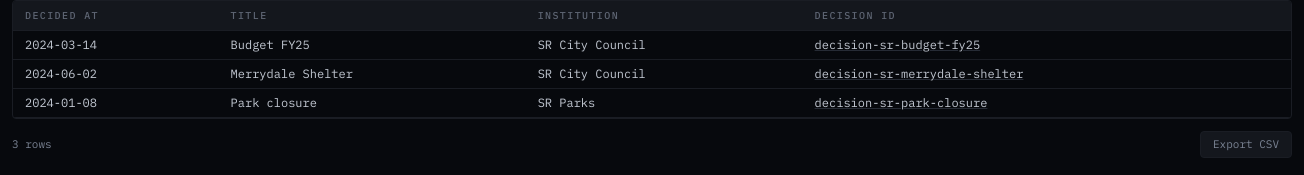
Scenario: DataTable › sorts DESC on first click of a sortable header, toggles ASC on second
Expected: the row that starts with "Budget FY25" is shown, [231,37,310,52]
Click the column heading "Decided at". click: coordinates (116, 16)
box: [13,1,219,31]
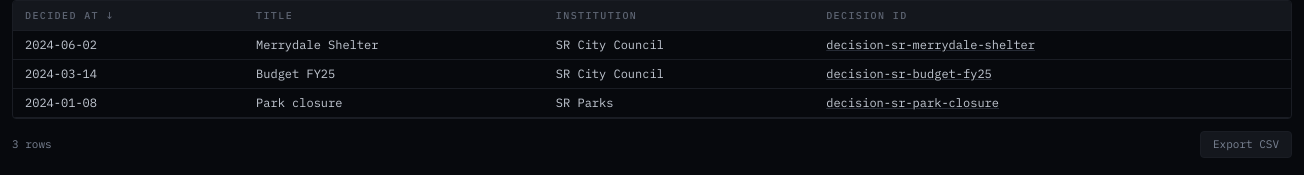
Expected: the row "2024-01-08 Park closure SR Parks decision-sr-park-closure" is shown, [13,89,1291,118]
Now the row that starts with "Merrydale Shelter" is shown, box [256,37,378,52]
Click the column heading "Decided at ↓". click: coordinates (128, 16)
box: [13,1,244,31]
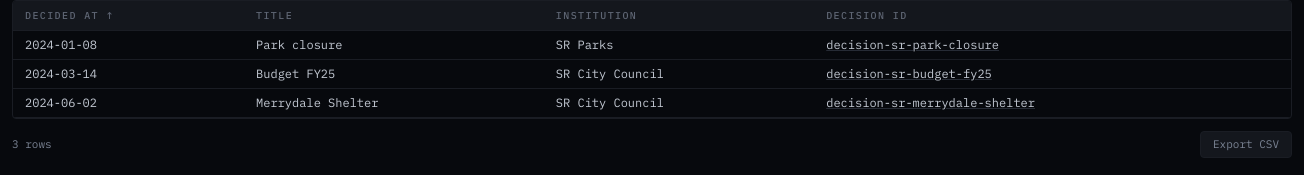
Now the row "2024-01-08 Park closure SR Parks decision-sr-park-closure" is shown, box [13,31,1291,60]
Now the row that starts with "Merrydale Shelter" is shown, box [256,95,378,110]
